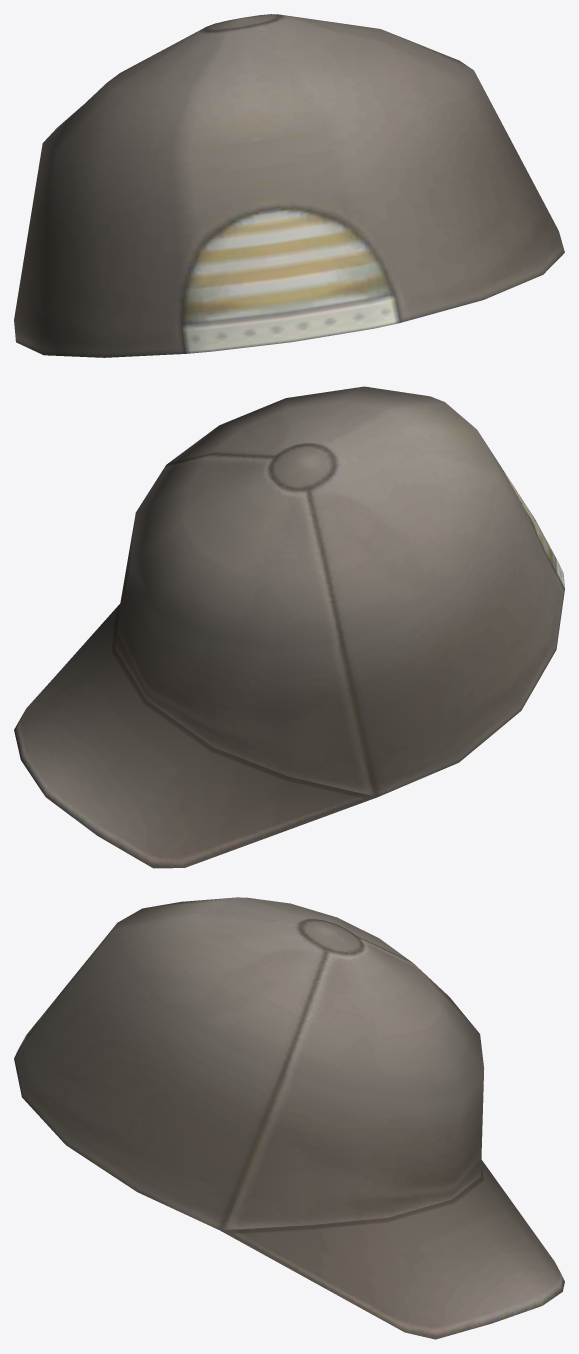
The model's file is helm0139.fbx.
3 renders of one model, top to bottom at view 1: azimuth 30°, elevation 25°; view 2: azimuth 150°, elevation 25°; view 3: azimuth 270°, elevation 25°, orthographic. The views are drawn at different scales.
Parts seen in each view (by area): view 1: helm0139; view 2: helm0139; view 3: helm0139.
Boxes of the visible parts, x1,y1,x2,y2 form: helm0139: (14, 14, 564, 357); helm0139: (14, 386, 564, 868); helm0139: (14, 897, 564, 1339).
Size of the model in its own units: 0.3993 by 0.2973 by 0.4347.
